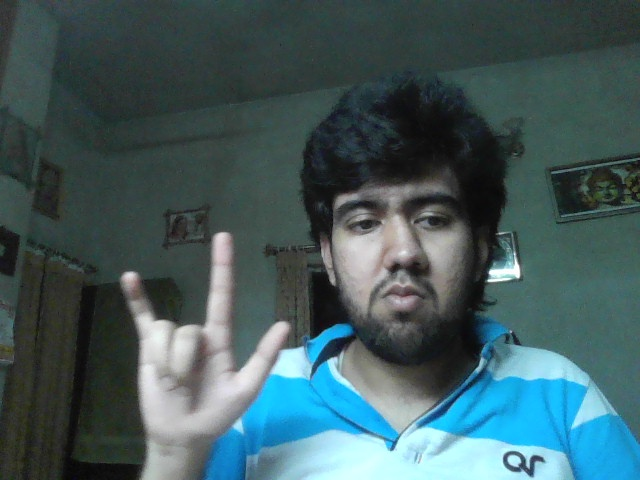ILoveYou: (120, 231, 292, 445)
